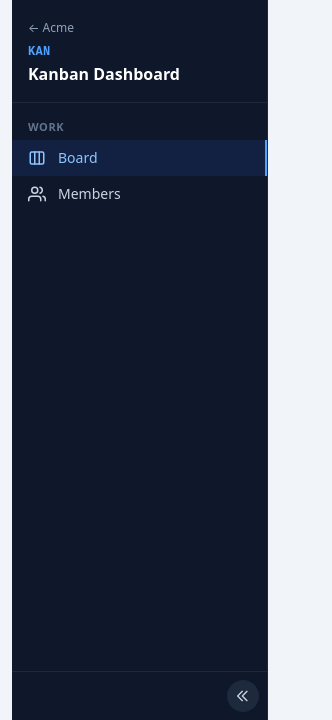
Scenario: ProjectSidebar › stays expanded on desktop-width viewports and still lets the user manually collapse it
This screenshot has width=332, height=720.
Expected: the text "Board" is shown, [58,148,98,168]
Click the button titled "Collapse": (243, 696) [227,680,259,712]
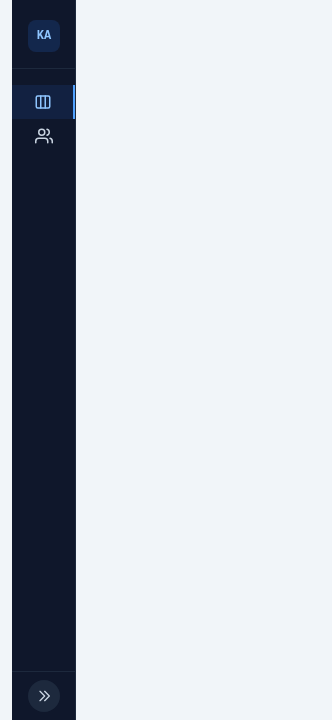
Expected: the button titled "Board" is shown, [12,85,75,119]
Expected: the heading "board" is gone
